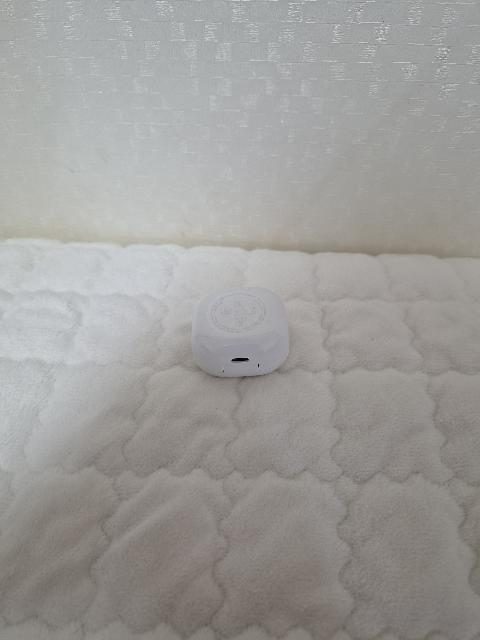earphone_case: (191, 287, 289, 377)
